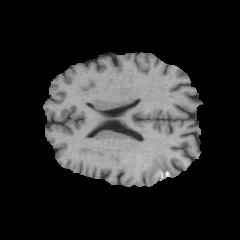glioma: (143, 153, 178, 185)
